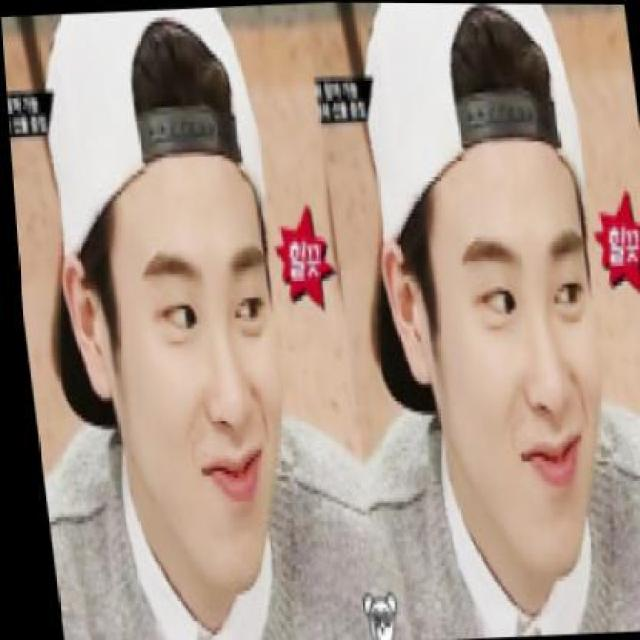hat: (328, 2, 610, 424), (10, 12, 288, 437)
